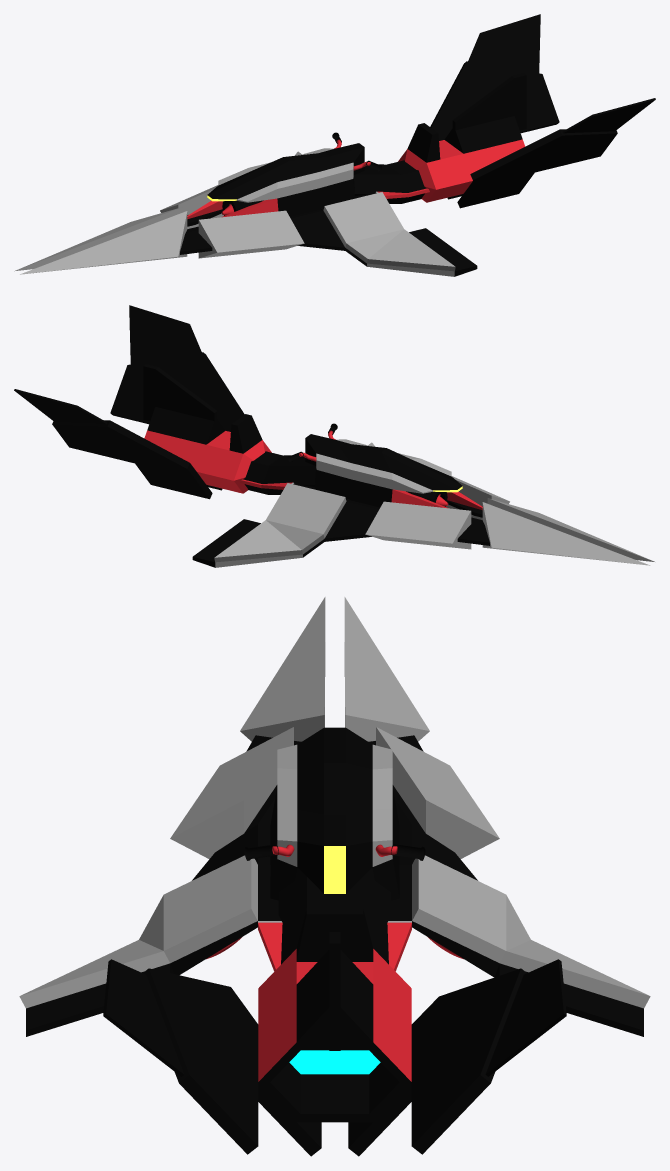
The model's file is sled.glb.
3 renders of one model, top to bottom at view 1: azimuth 30°, elevation 25°; view 2: azimuth 150°, elevation 25°; view 3: azimuth 270°, elevation 25°, orthographic. The views are drawn at different scales.
Visible parts, largest first — view 1: Cylinder.004; view 2: Cylinder.004; view 3: Cylinder.004.
Boxes of the visible parts, x1=… form: Cylinder.004: x1=14, y1=14, x2=655, y2=276; Cylinder.004: x1=14, y1=305, x2=654, y2=567; Cylinder.004: x1=19, y1=597, x2=650, y2=1156.
Bounding box in the file's own units: 1359 × 252 × 639.
